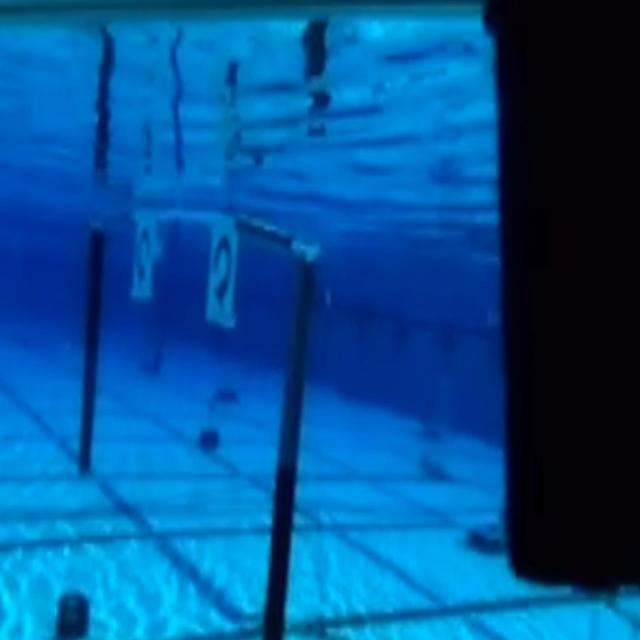Gate: (72, 201, 321, 640)
